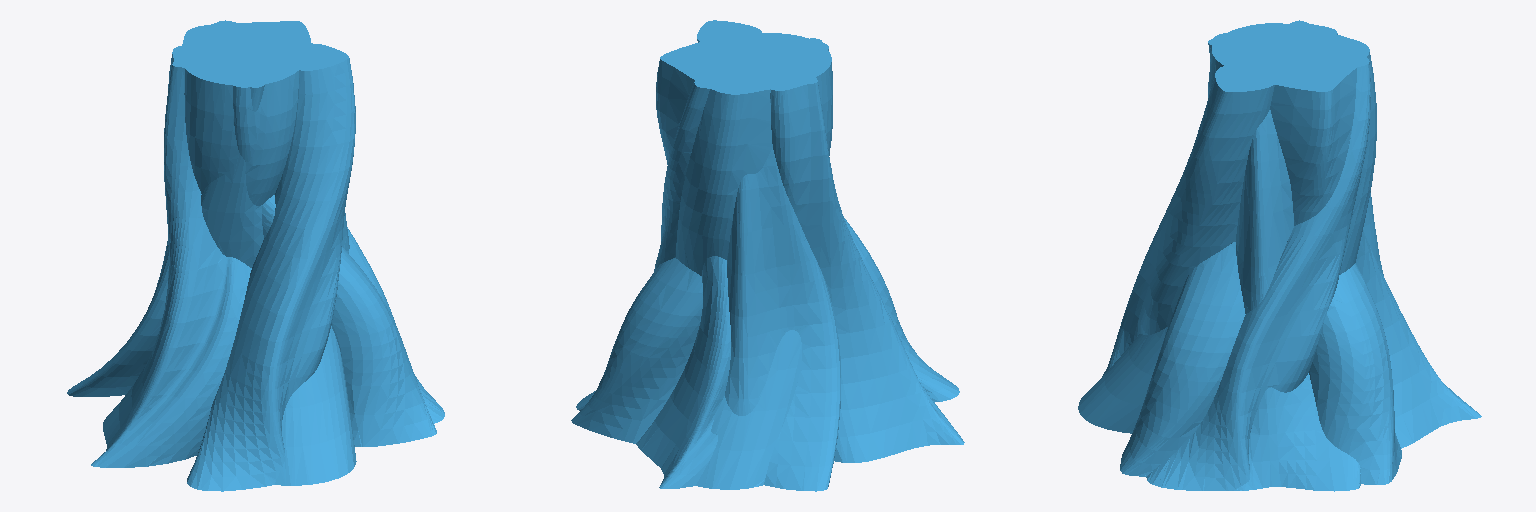
robot.urdf — simple_tree:
<?xml version="1.0"?>
<robot name="simple_tree">
  <link name="world"/>
  <joint name="my_tree_joint" type="fixed" >  <!-- continuous --> 
    <!-- axis is in the parent link frame coordintates -->
    <axis xyz="0 0 1" />
    <parent link="world" />
    <child link="my_tree" />
    <!-- initial pose of my_tree in the parent frame coordiantes -->
    <origin xyz="0 0 0.0" rpy="1.57 0 0" />
  </joint>
  <link name="my_tree">
    <inertial>
      <mass value="10.0" />
      <!-- center of mass (com) is defined w.r.t. link local coordinate system -->
      <origin xyz="0 0 0" /> 
      <inertia  ixx="1.0" ixy="0.0"  ixz="0.0"  iyy="100.0"  iyz="0.0"  izz="1.0" />
    </inertial>
    <visual>
      <!-- visual origin is defined w.r.t. link local coordinate system -->
      <origin xyz="0 0 0" rpy="0 0 0" />
       <geometry>
	 <mesh filename="package://summit_xl_description/Media/models/tree3.stl" scale="1.0 1.0 1.0"/>
       </geometry>
       <!-- material name="grey">
		<color rgba="0.5 0.5 0.5 1"/>
       </material -->
    </visual>

    <collision>
      <!-- collision origin is defined w.r.t. link local coordinate system -->
      <origin xyz="0 0 0" rpy="0 0 0 " />
       <geometry>
	 <mesh filename="package://summit_xl_description/Media/models/tree3.stl" scale="1.0 1.0 1.0"/>
       </geometry>
    </collision>
  </link>
  <gazebo reference="my_tree">
    <material>Gazebo/Blue</material>
    <turnGravityOff>false</turnGravityOff>
  </gazebo>
</robot>

--- What the picture shows (computed from the rendered views, not written in the file) ---
Views: 3 orthographic renders of the robot side by side, from view 1: azimuth 30°, elevation 25°; view 2: azimuth 150°, elevation 25°; view 3: azimuth 270°, elevation 25°.
Model simple_tree with 2 links and 1 joints (1 fixed), rooted at world, posed all joints at 0.
Visible links, largest first — view 1: my_tree; view 2: my_tree; view 3: my_tree.
Boxes of the visible links, left/top/right/bottom form: my_tree: left=67, top=20, right=444, bottom=491; my_tree: left=571, top=20, right=964, bottom=491; my_tree: left=1078, top=20, right=1481, bottom=491.
Size in the robot's own frame: 0.7802 by 0.8072 by 0.8004 metres.
1 mesh visuals loaded from 1 distinct referenced files (1 binary STL).
